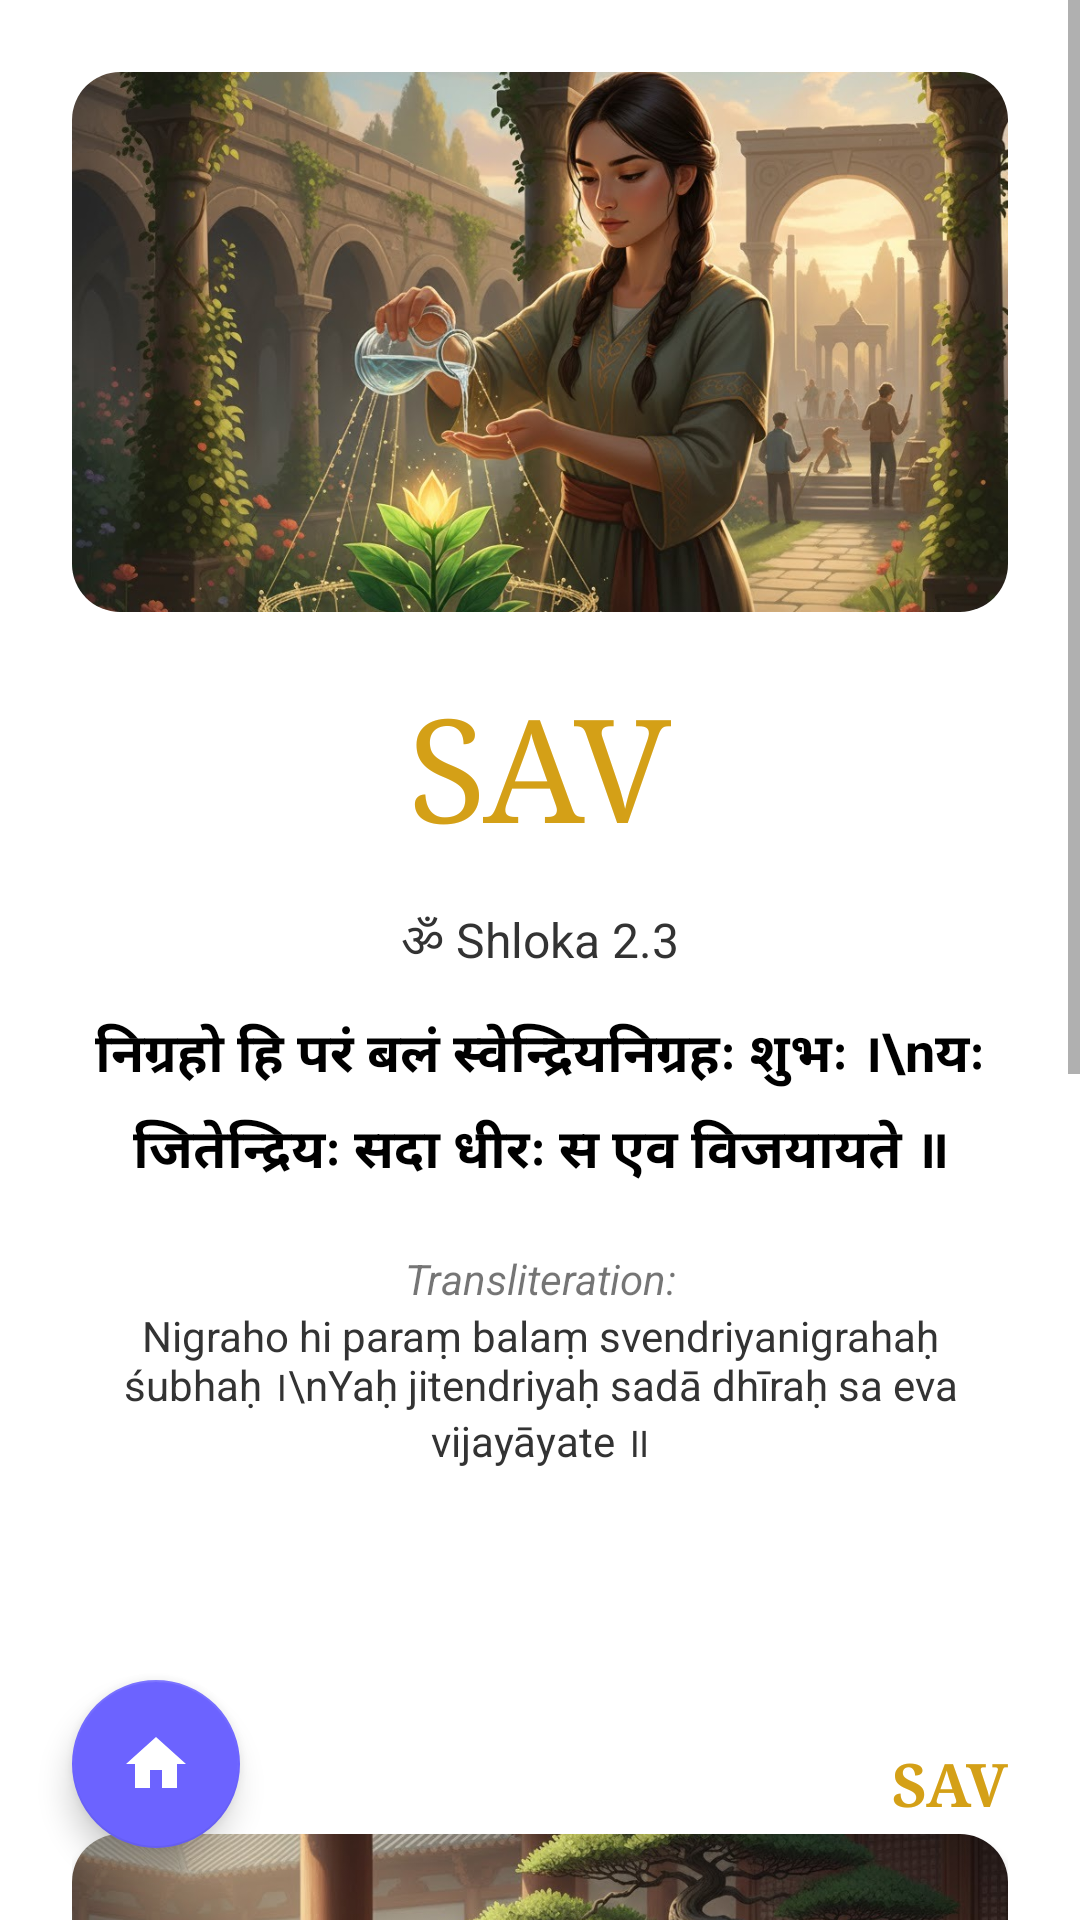

Icon click points for this 1080 × 1920 phone screenshot, format (x,y):
home: (156,1764)
